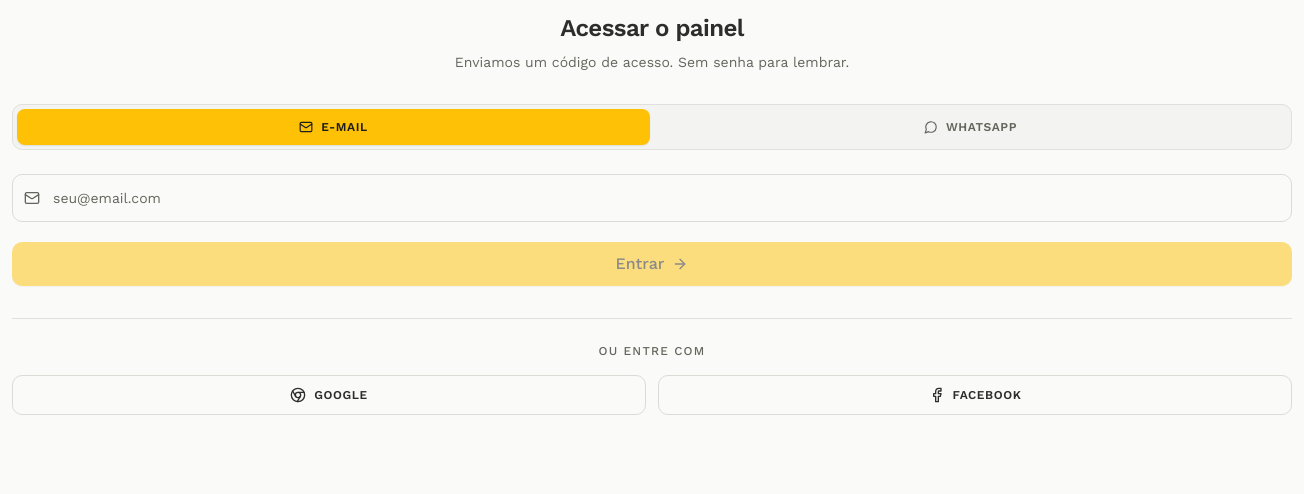
Scenario: S1 9.4.2 — o login em etapas nas duas abas › WhatsApp curto NÃO avança de etapa, e DIZ o motivo na tela
Click the button "WhatsApp": coordinates (970, 127) top-left (654, 109), bottom-right (1287, 145)
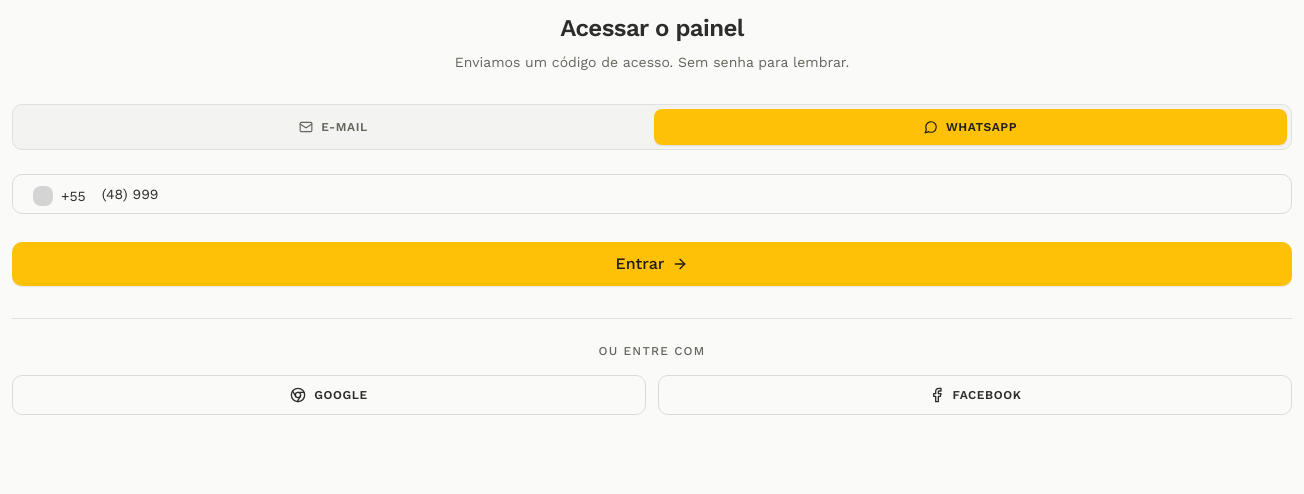
Click the 1st button named "entrar": coordinates (652, 264) top-left (12, 242), bottom-right (1292, 286)
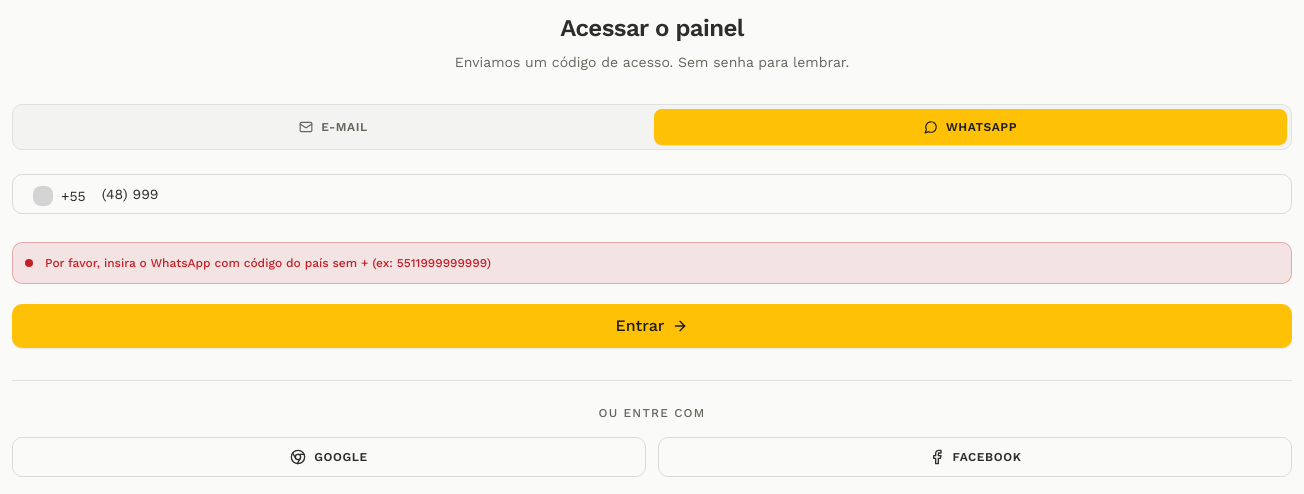
Check: the message shows "WhatsApp com código do país", box top-left (45, 256), bottom-right (491, 270)
